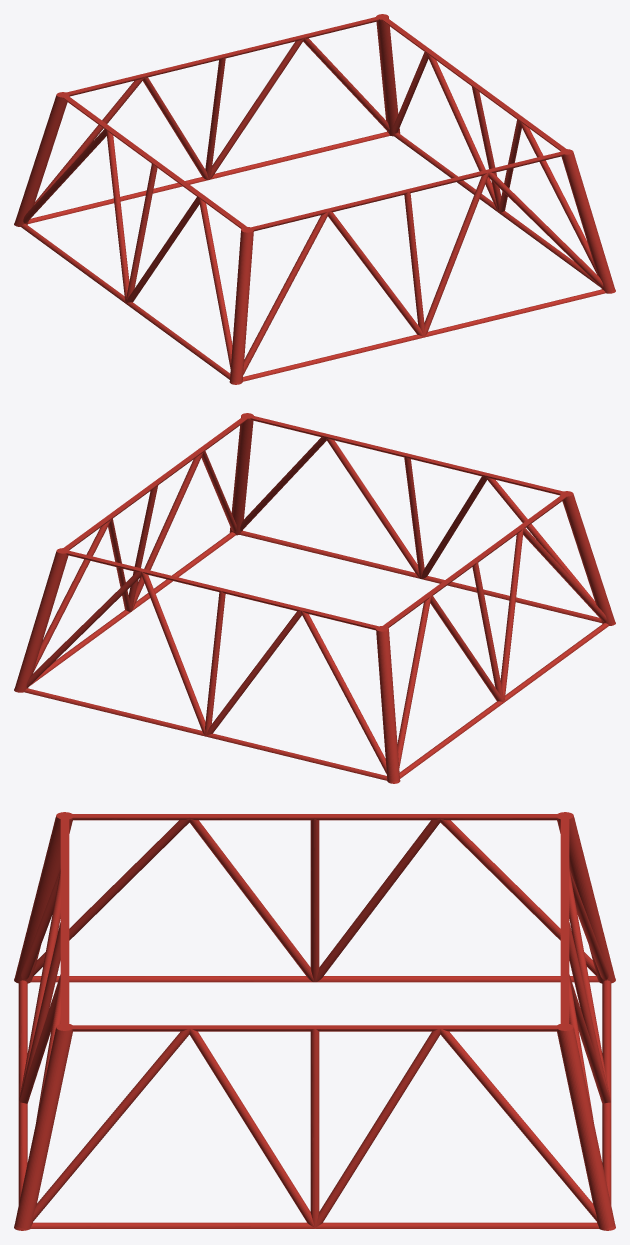
3 renders of one model, top to bottom at view 1: azimuth 30°, elevation 25°; view 2: azimuth 150°, elevation 25°; view 3: azimuth 270°, elevation 25°, orthographic. The views are drawn at different scales.
Parts seen in each view (by area): view 1: H5-H6; view 2: H5-H6; view 3: H5-H6.
Part boxes in pixels (bbox=[...]): H5-H6: bbox=[14, 14, 615, 384]; H5-H6: bbox=[14, 413, 615, 783]; H5-H6: bbox=[14, 812, 615, 1230].
Bounding box in the file's own units: 34.45 × 11.5 × 34.45.
